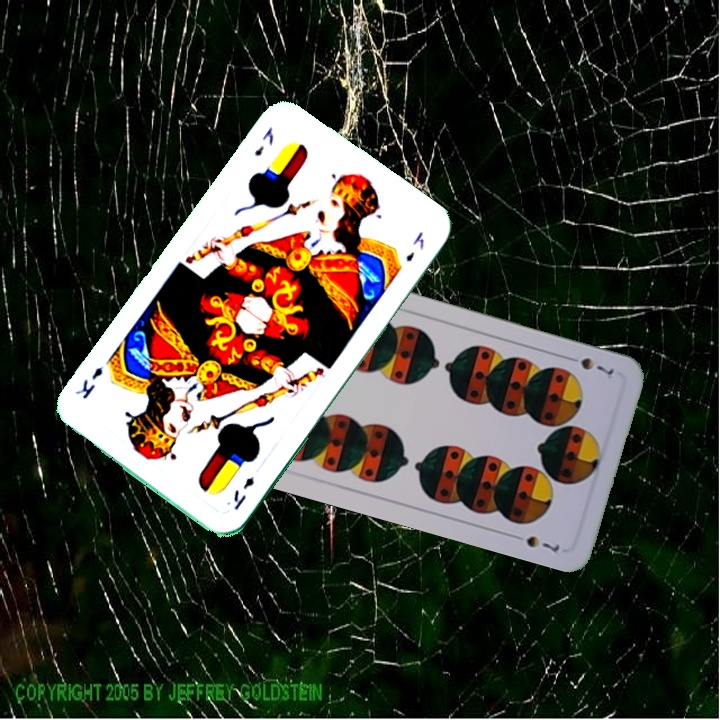EK: (229, 472, 257, 513), (250, 122, 277, 159)
S7: (562, 352, 617, 378)
